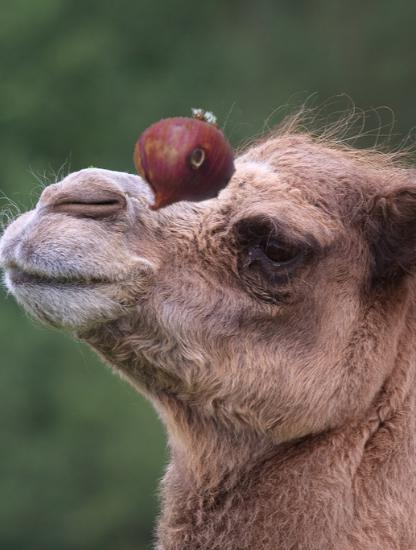Onion: (122, 96, 248, 222)
